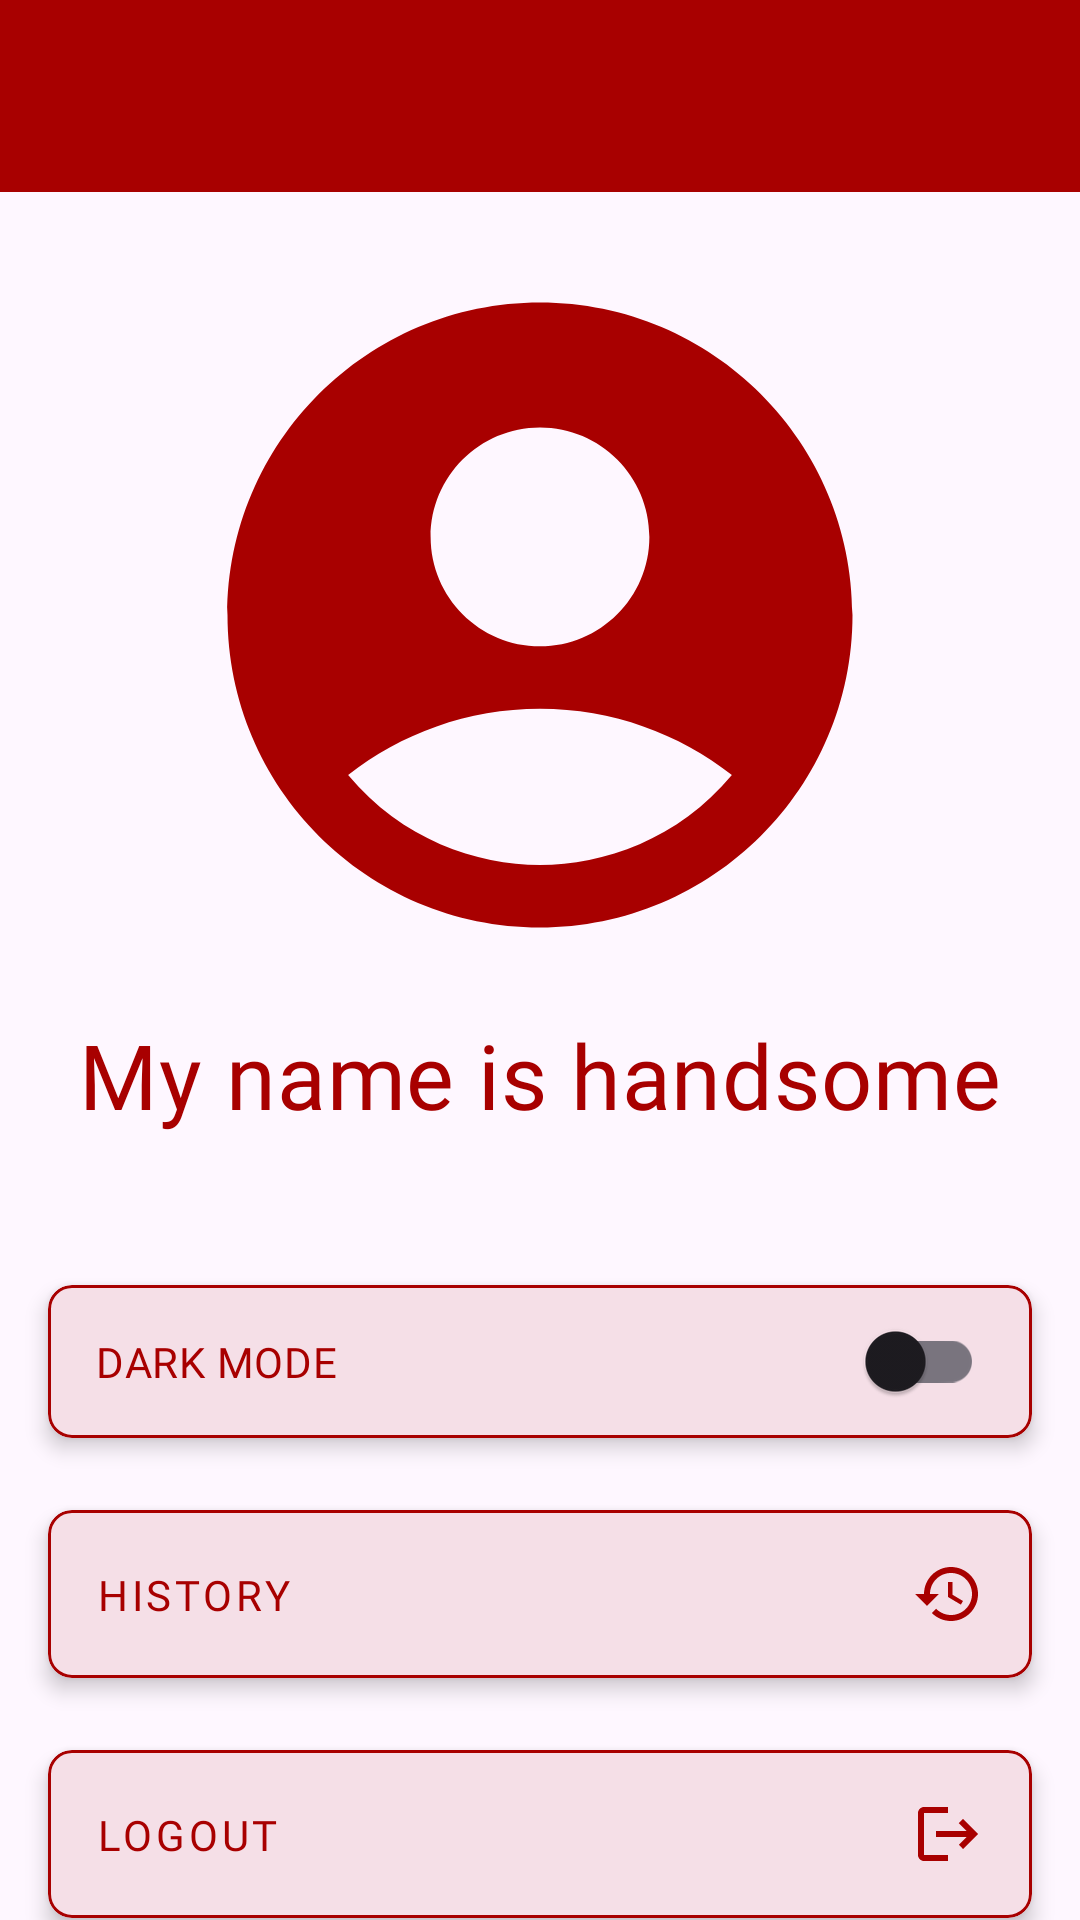

Icon bounding boxes for this 1080*1920 phone screenshot, format (x1=x1, y1=y1, x2=x2, y2=y2):
history: (x1=915, y1=1567, x2=978, y2=1621)
